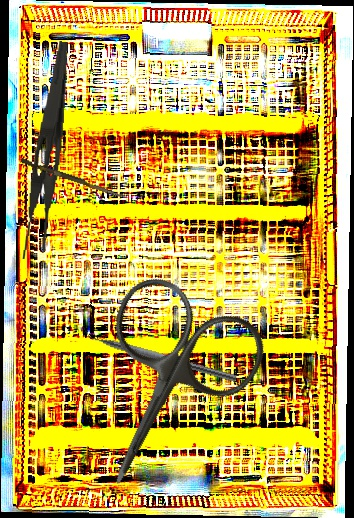Chopper: (74, 321, 241, 383)
Dressing Forceps: (18, 39, 70, 262)
Iris Scissors: (47, 266, 276, 518)
Pusher: (19, 158, 127, 199)
